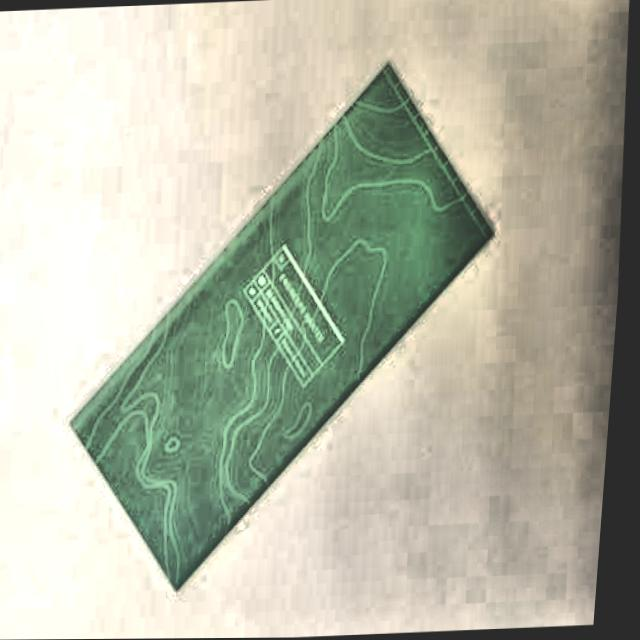Paper: (45, 49, 527, 603)
